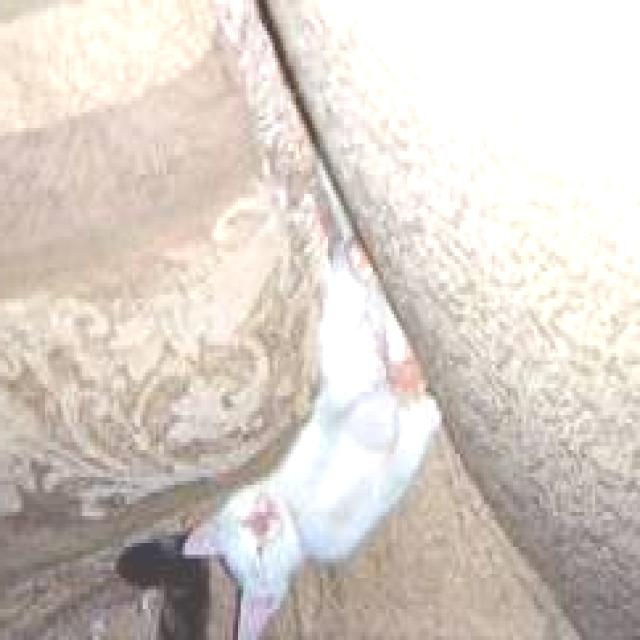Kucing: (134, 348, 457, 640)
